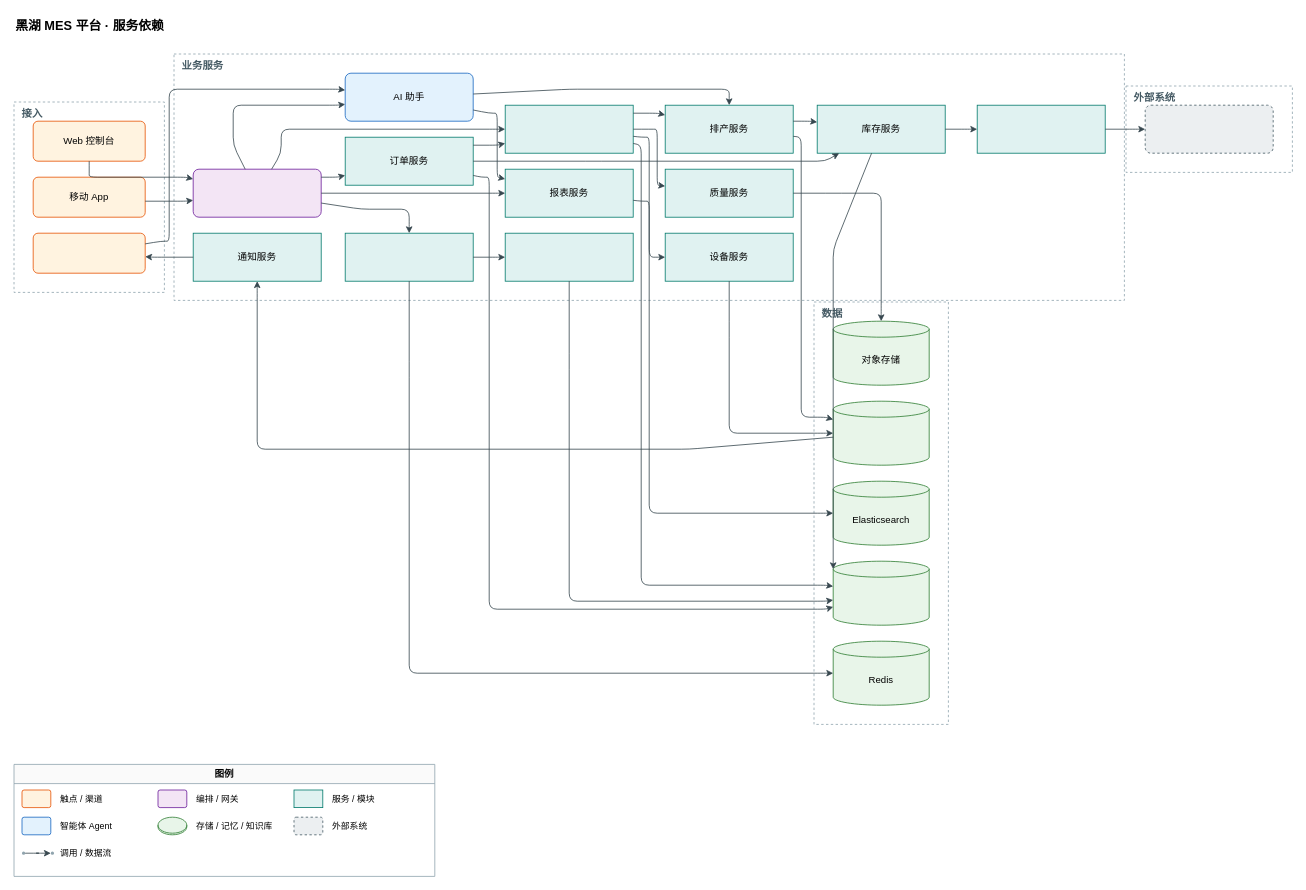
This 1306x890 diagram has some shape labels left out. The shapes that lost their labels are listed below. From the top down, each one's centre as x and y in pixels, then its label:
(x=568, y=128): 工单服务
(x=1040, y=128): 采购服务
(x=1208, y=128): ERP
(x=256, y=192): API 网关
(x=88, y=252): 飞书机器人
(x=408, y=256): 认证服务
(x=568, y=256): 用户服务
(x=880, y=432): Kafka
(x=880, y=592): PostgreSQL
